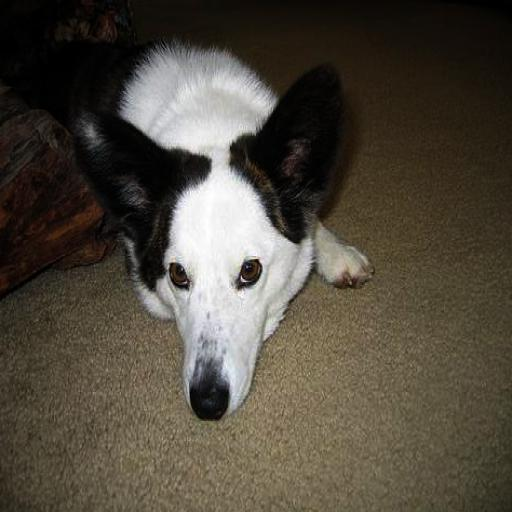dog_face: (79, 92, 339, 421)
